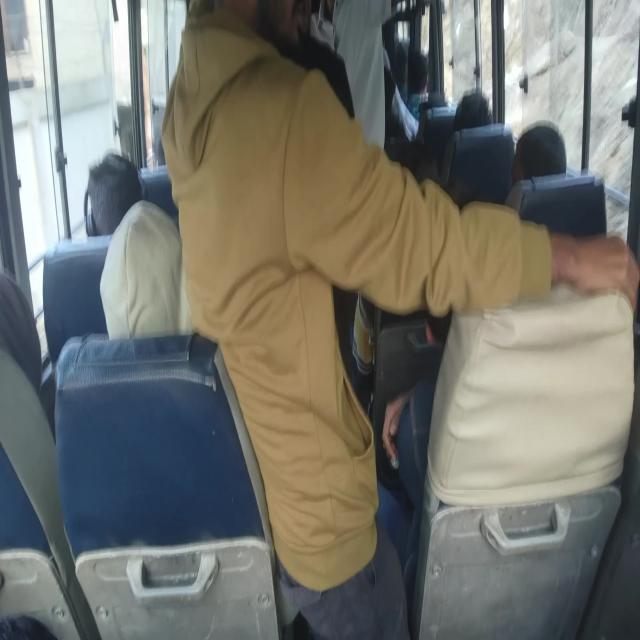person: (352, 99, 476, 460), (162, 6, 280, 195), (101, 229, 200, 419), (40, 239, 114, 367), (512, 173, 608, 240), (0, 266, 43, 408), (439, 123, 515, 203), (509, 121, 567, 191), (387, 134, 437, 188), (138, 164, 179, 226), (91, 161, 132, 222), (420, 104, 460, 158), (454, 89, 494, 133)
